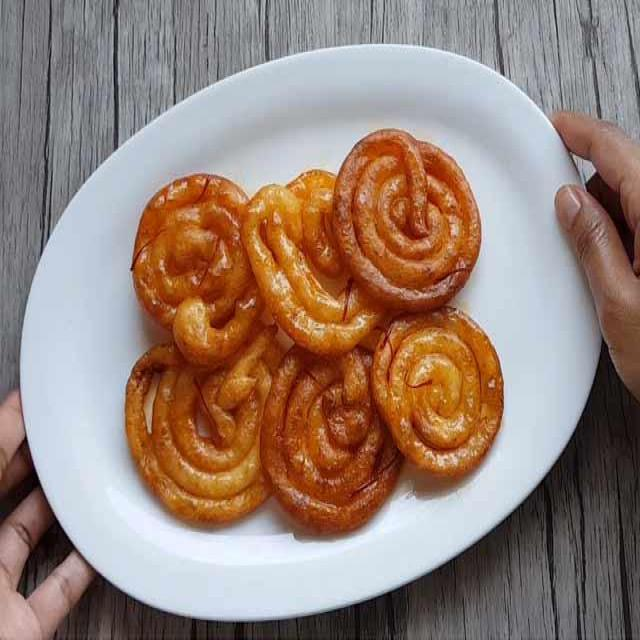jalebi: (126, 144, 494, 535)
